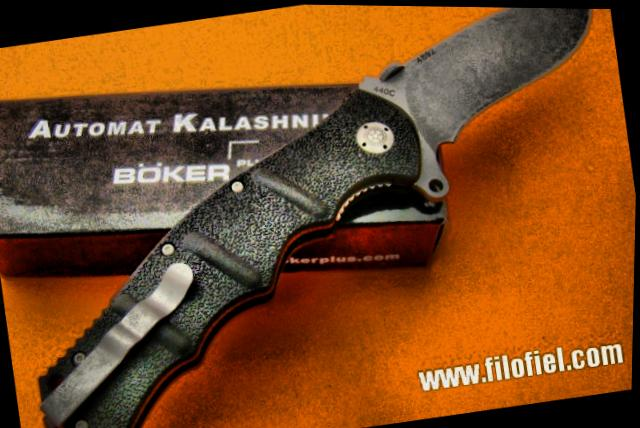knife: (331, 4, 628, 224)
